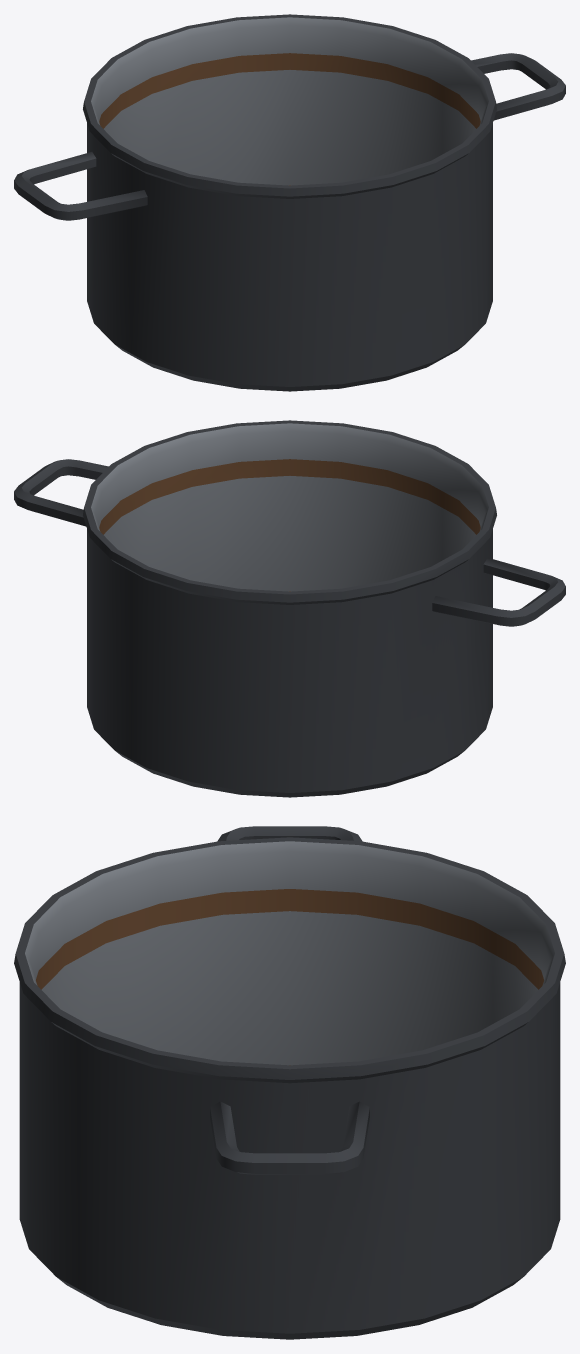
Rendered from potDirty.glb.
3 renders of one model, top to bottom at view 1: azimuth 30°, elevation 25°; view 2: azimuth 150°, elevation 25°; view 3: azimuth 270°, elevation 25°, orthographic. The views are drawn at different scales.
Parts seen in each view (by area): view 1: potDirty; view 2: potDirty; view 3: potDirty.
Part boxes in pixels (left/top/right/bottom): potDirty: left=14, top=14, right=565, bottom=391; potDirty: left=14, top=420, right=565, bottom=797; potDirty: left=14, top=826, right=565, bottom=1339.
Size of the model in its own units: 0.388 by 0.1495 by 0.2696.
